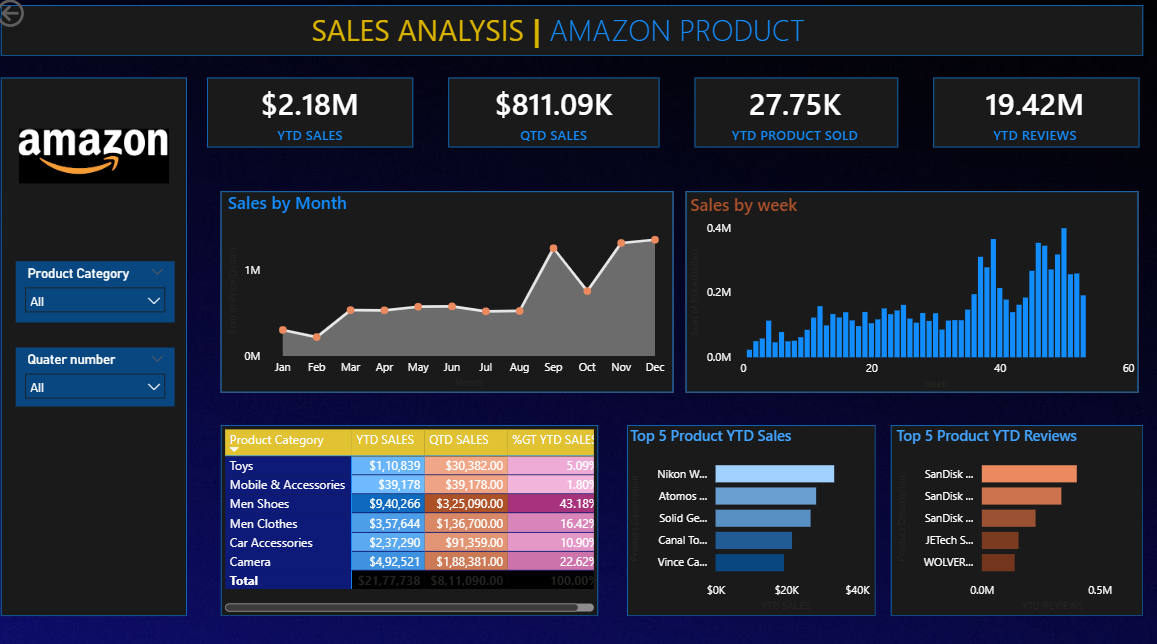

The dashboard page shown, as its layout file describes it:
{"tool":"powerbi","page":{"name":"Page 1","canvas":[1280,720],"ordinal":0},"visuals":[{"type":"shape","box":[9.6,11,1254.2,56.3],"z":0},{"type":"textbox","box":[345.8,11,569.5,75.5],"z":1000},{"type":"shape","box":[9.6,90.6,204.5,591.4],"z":2000},{"type":"shape","box":[235.5,90.8,226.4,76.8],"z":3000},{"type":"card","fields":{"Values":["Amazon_Data.YTD SALES"]},"box":[236,90.6,226.4,76.8],"z":4000},{"type":"shape","box":[500.3,90.8,231.9,76.8],"z":5000},{"type":"shape","box":[770.6,90.8,223.7,76.8],"z":6000},{"type":"shape","box":[1032.7,90.8,226.4,76.8],"z":7000},{"type":"card","fields":{"Values":["Amazon_Data.QTD SALES"]},"box":[503.6,90.6,226.4,76.8],"z":8000},{"type":"card","fields":{"Values":["Amazon_Data.YTD PRODUCT SOLD"]},"box":[768.4,90.6,226.4,76.8],"z":9000},{"type":"card","fields":{"Values":["Amazon_Data.YTD REVIEWS"]},"box":[1031.9,90.6,226.4,76.8],"z":10000},{"type":"shape","box":[251.1,215.4,496.7,220.9],"z":11000},{"type":"lineChart","title":"Sales by Month","fields":{"Category":["Date table.Month"],"Y":["Sum(Amazon_Data.Price(Dollar))"]},"box":[253.9,215.4,494,220.9],"z":12000},{"type":"shape","box":[761.6,215.4,496.7,220.9],"z":13000},{"type":"clusteredColumnChart","title":"Sales by week","fields":{"Category":["Date table.week"],"Y":["Sum(Amazon_Data.Price(Dollar))"]},"box":[761.6,216.8,498.1,220.9],"z":14000},{"type":"shape","box":[251.1,472,414.4,209.9],"z":15000},{"type":"pivotTable","fields":{"Rows":["Amazon_Data.Product Category"],"Values":["Amazon_Data.YTD SALES1","Amazon_Data.QTD SALES","Amazon_Data.YTD SALES"]},"box":[251.1,472,414.4,209.9],"z":16000},{"type":"shape","box":[697.1,472,273.1,209.9],"z":17000},{"type":"shape","box":[986.6,472,277.2,209.9],"z":18000},{"type":"clusteredBarChart","title":"Top 5 Product YTD Sales","fields":{"Category":["Amazon_Data.Product Description"],"Y":["Amazon_Data.YTD SALES"]},"box":[695.7,472,273.1,209.9],"z":19000},{"type":"clusteredBarChart","title":"Top 5 Product YTD Reviews","fields":{"Category":["Amazon_Data.Product Description"],"Y":["Amazon_Data.YTD REVIEWS"]},"box":[988,472,273.1,209.9],"z":20000},{"type":"slicer","fields":{"Values":["Date table.Quater number"]},"box":[26.1,387,174.3,64.5],"z":21000},{"type":"slicer","fields":{"Values":["Amazon_Data.Product Category"]},"box":[26.1,292.3,174.3,67.2],"z":22000},{"type":"actionButton","box":[0,0,100,40],"z":23000},{"type":"image","box":[24.7,137.2,174.3,79.6],"z":24000}]}

Visuals, with their boxes in screenshot pixels (x1, y1, x2, y2), scaled from the page's 1280x720 canvas onto the 1157x644 screenshot:
shape: [x1=9, y1=10, x2=1142, y2=60]
textbox: [x1=313, y1=10, x2=827, y2=77]
shape: [x1=9, y1=81, x2=194, y2=610]
shape: [x1=213, y1=81, x2=418, y2=150]
card - Amazon_Data.YTD SALES: [x1=213, y1=81, x2=418, y2=150]
shape: [x1=452, y1=81, x2=662, y2=150]
shape: [x1=697, y1=81, x2=899, y2=150]
shape: [x1=933, y1=81, x2=1138, y2=150]
card - Amazon_Data.QTD SALES: [x1=455, y1=81, x2=660, y2=150]
card - Amazon_Data.YTD PRODUCT SOLD: [x1=695, y1=81, x2=899, y2=150]
card - Amazon_Data.YTD REVIEWS: [x1=933, y1=81, x2=1137, y2=150]
shape: [x1=227, y1=193, x2=676, y2=390]
"Sales by Month" lineChart: [x1=230, y1=193, x2=676, y2=390]
shape: [x1=688, y1=193, x2=1137, y2=390]
"Sales by week" clusteredColumnChart: [x1=688, y1=194, x2=1139, y2=391]
shape: [x1=227, y1=422, x2=602, y2=610]
pivotTable - Amazon_Data.Product Category x Amazon_Data.YTD SALES1: [x1=227, y1=422, x2=602, y2=610]
shape: [x1=630, y1=422, x2=877, y2=610]
shape: [x1=892, y1=422, x2=1142, y2=610]
"Top 5 Product YTD Sales" clusteredBarChart: [x1=629, y1=422, x2=876, y2=610]
"Top 5 Product YTD Reviews" clusteredBarChart: [x1=893, y1=422, x2=1140, y2=610]
slicer - Date table.Quater number: [x1=24, y1=346, x2=181, y2=404]
slicer - Amazon_Data.Product Category: [x1=24, y1=261, x2=181, y2=322]
actionButton: [x1=0, y1=0, x2=90, y2=36]
image: [x1=22, y1=123, x2=180, y2=194]
